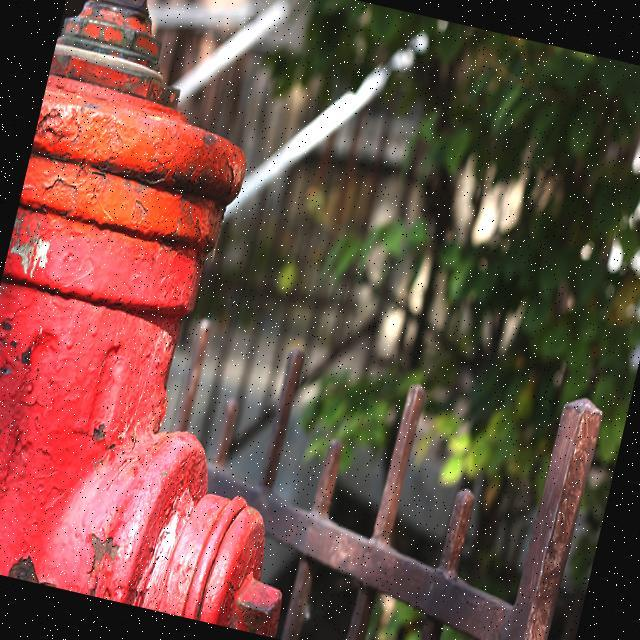fire_hydrant: (0, 0, 422, 639)
